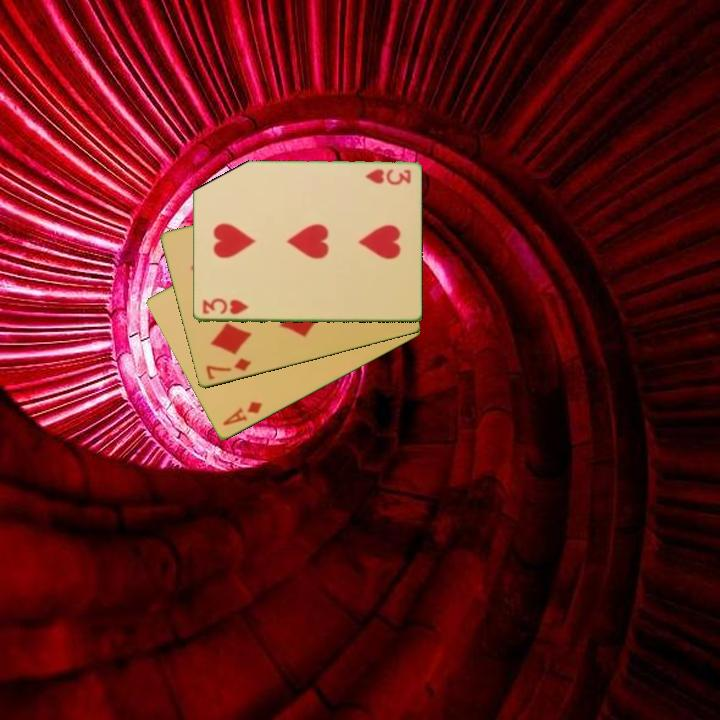3h: (199, 296, 251, 317), (361, 166, 413, 187)
7d: (202, 355, 254, 383)
Ad: (219, 398, 265, 429)
